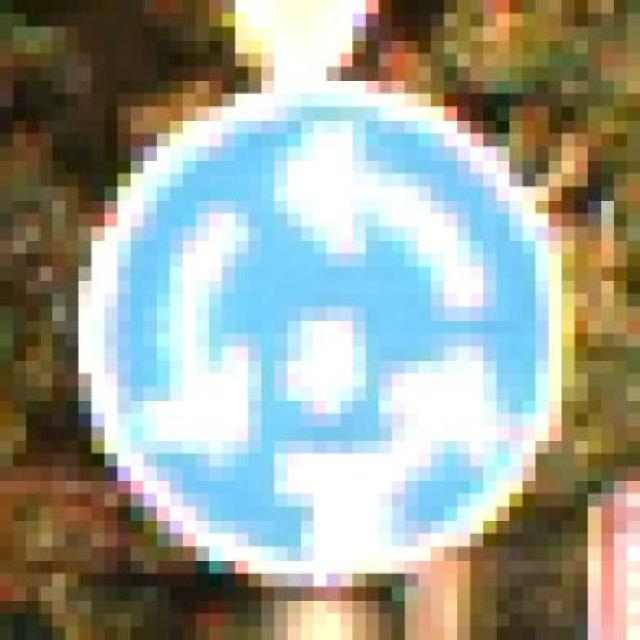Round-About: (26, 66, 602, 600)
